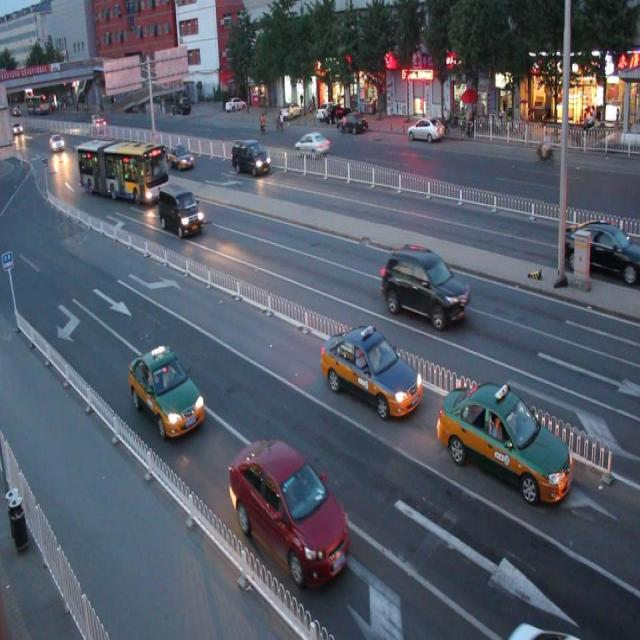car: (228, 436, 352, 586), (436, 379, 574, 506), (319, 322, 422, 418), (126, 344, 206, 439), (380, 243, 469, 328), (558, 217, 640, 286), (294, 130, 328, 156)
truck: (159, 180, 204, 238), (232, 136, 270, 179)
